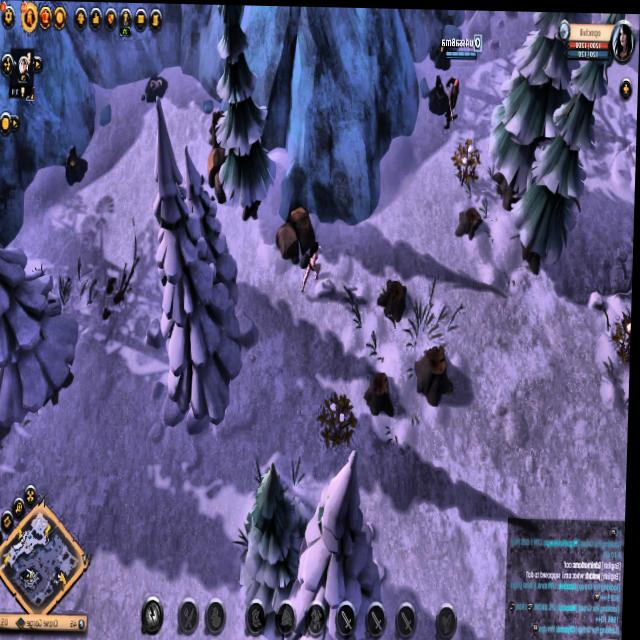copper_ore: (53, 146, 94, 188)
cotton: (318, 392, 360, 446), (604, 297, 631, 372), (448, 141, 481, 182)
limestone: (275, 202, 317, 261)
